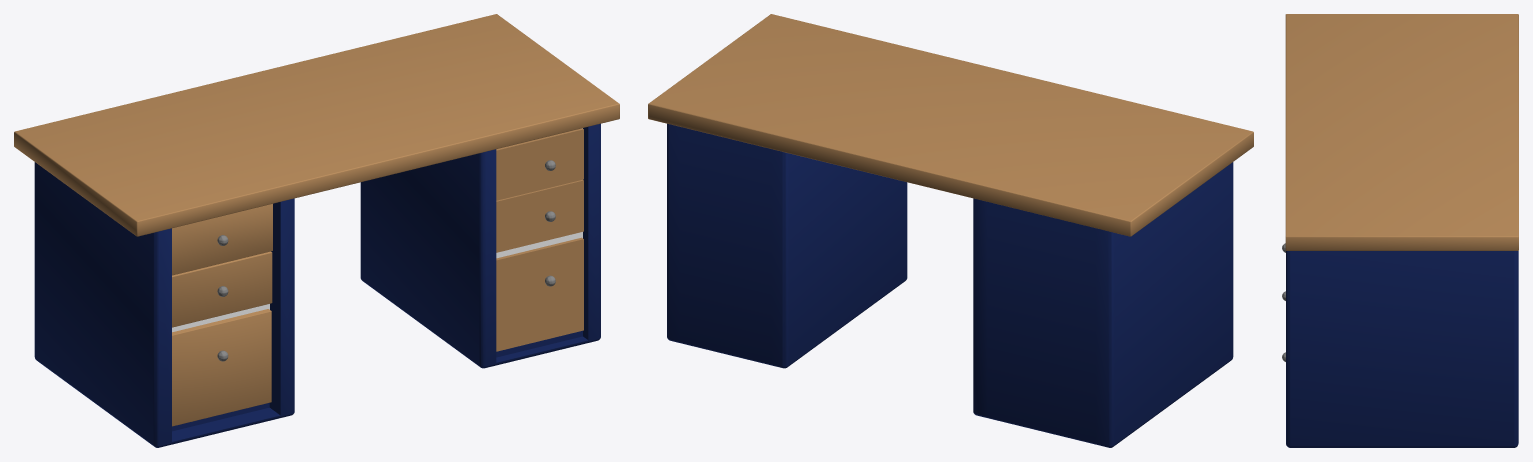
Rendered from desk.glb.
3 renders of one model, left to right at view 1: azimuth 30°, elevation 25°; view 2: azimuth 150°, elevation 25°; view 3: azimuth 270°, elevation 25°, orthographic. The views are drawn at different scales.
Parts seen in each view (by area): view 1: Planche, Base-, Base, Tiroir-3, Tiroir-3.1, Tiroir-2, Tiroir_1-, Tiroir-2.1, Tiroir_1-.1; view 2: Planche, Base-, Base; view 3: Planche, Base.
Boxes of the visible parts, x1,y1,x2,y2 form: Planche: (14,14,619,236); Base-: (34,162,294,447); Base: (360,123,600,368); Tiroir-3: (172,309,271,426); Tiroir-3.1: (496,237,583,351); Tiroir-2: (172,251,272,327); Tiroir_1-: (172,204,272,275); Tiroir-2.1: (496,179,583,252); Tiroir_1-.1: (496,128,583,200); Planche: (648,14,1253,236); Base-: (973,162,1233,447); Base: (667,123,907,368); Planche: (1285,14,1518,250); Base: (1286,251,1518,447).
Bounding box in the file's own units: 1.62 × 0.75 × 0.7289.
